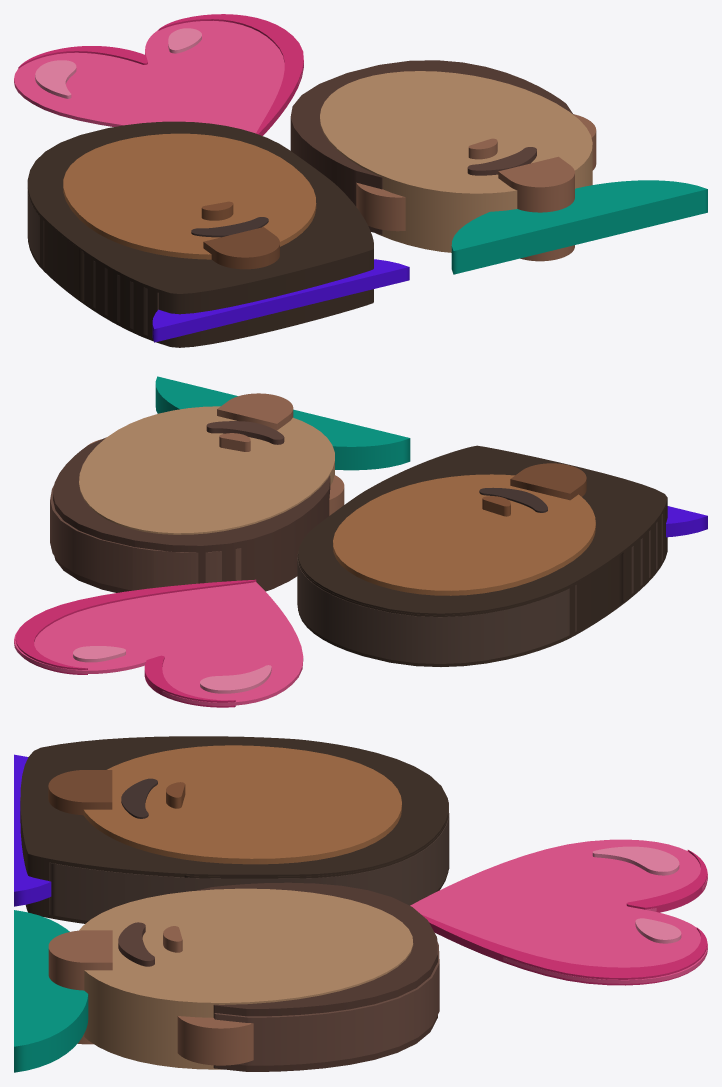
The model's file is emoji_u1f469_1f3fe_200d_2764_200d_1f468_1f3fd.glb.
3 renders of one model, top to bottom at view 1: azimuth 30°, elevation 25°; view 2: azimuth 150°, elevation 25°; view 3: azimuth 270°, elevation 25°, orthographic. The views are drawn at different scales.
Parts seen in each view (by area): view 1: emoji_u1f469_1f3fe_200d_2764_200d_1f468_1f3fd; view 2: emoji_u1f469_1f3fe_200d_2764_200d_1f468_1f3fd; view 3: emoji_u1f469_1f3fe_200d_2764_200d_1f468_1f3fd.
Part boxes in pixels (x1,y1,x2,y2): emoji_u1f469_1f3fe_200d_2764_200d_1f468_1f3fd: [14, 14, 707, 347]; emoji_u1f469_1f3fe_200d_2764_200d_1f468_1f3fd: [14, 376, 707, 707]; emoji_u1f469_1f3fe_200d_2764_200d_1f468_1f3fd: [14, 736, 707, 1072].
Size of the model in its own units: 0.0345 by 0.005 by 0.0339.
